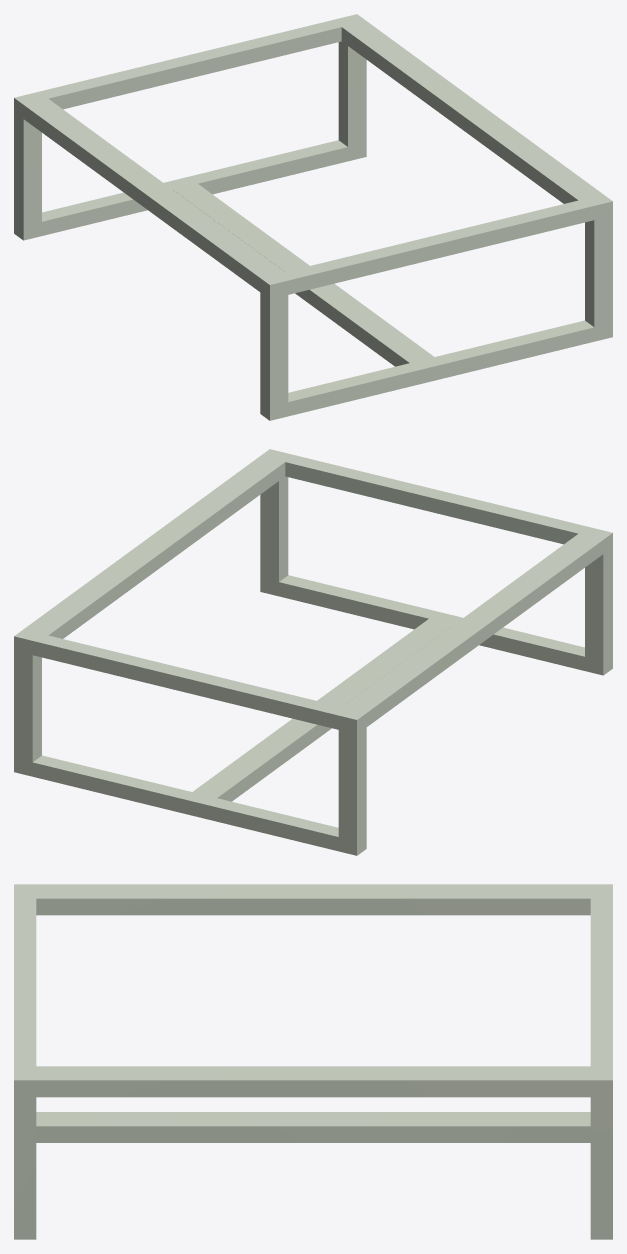
File: plates-holder.glb
3 renders of one model, top to bottom at view 1: azimuth 30°, elevation 25°; view 2: azimuth 150°, elevation 25°; view 3: azimuth 270°, elevation 25°, orthographic. The views are drawn at different scales.
Visible parts, largest first — view 1: PlatesHolder.001; view 2: PlatesHolder.001; view 3: PlatesHolder.001.
Part boxes in pixels (box(x1,y1,x2,y2)): PlatesHolder.001: box(14, 14, 612, 420); PlatesHolder.001: box(14, 449, 612, 855); PlatesHolder.001: box(14, 884, 612, 1239).
Bounding box in the file's own units: 0.3294 × 0.1246 × 0.4253.
Materials: 1 (1 with a texture image).
